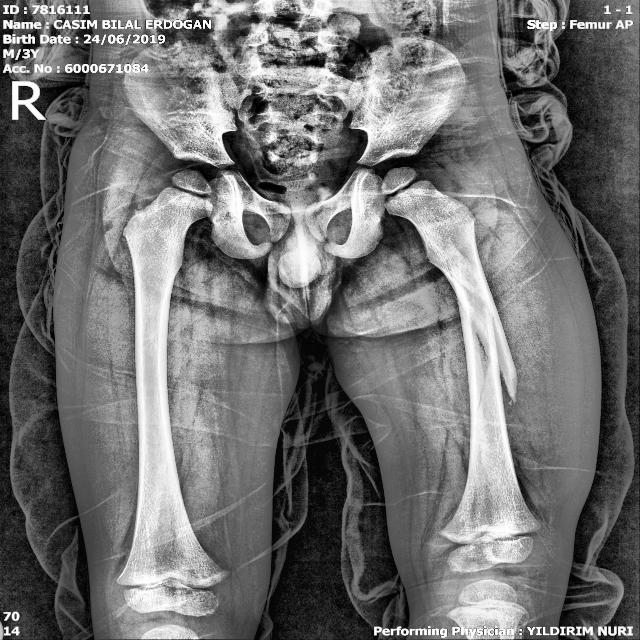Fracture: (459, 260, 521, 413)
